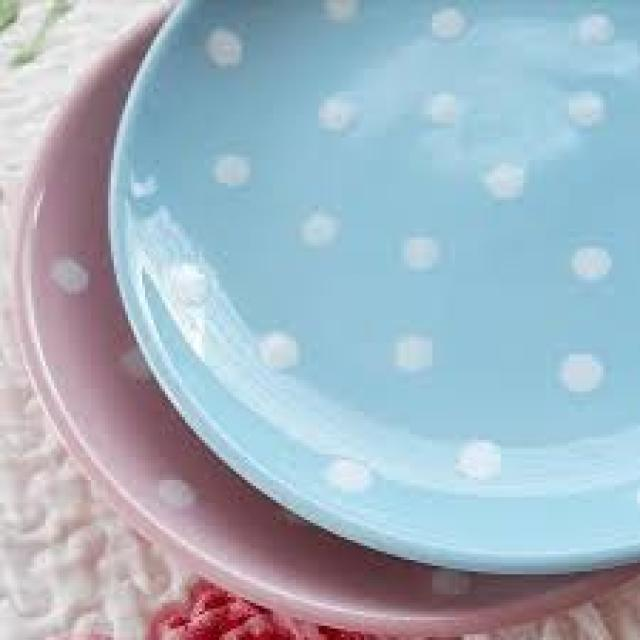Plate: (102, 3, 640, 580)
